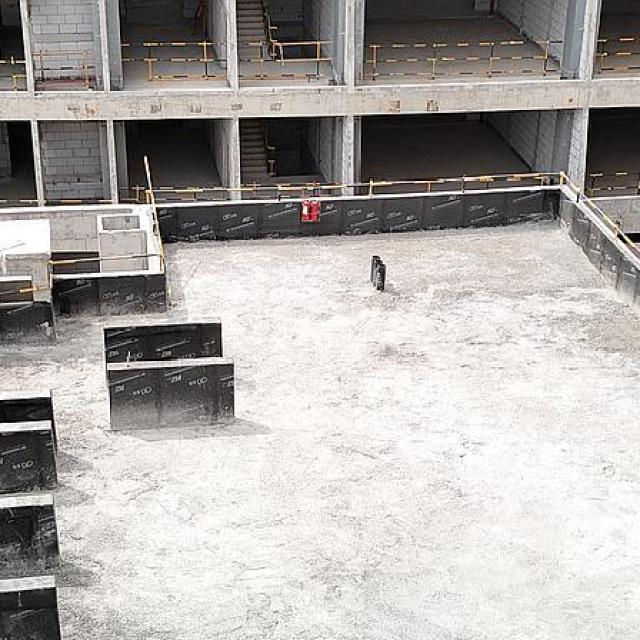edge_guardrail: (144, 169, 640, 262), (363, 39, 564, 82), (0, 250, 164, 298), (120, 42, 227, 82), (238, 40, 335, 81), (32, 50, 97, 90), (117, 184, 227, 200), (593, 37, 640, 72), (584, 171, 640, 196), (0, 197, 113, 206), (0, 58, 27, 91)
